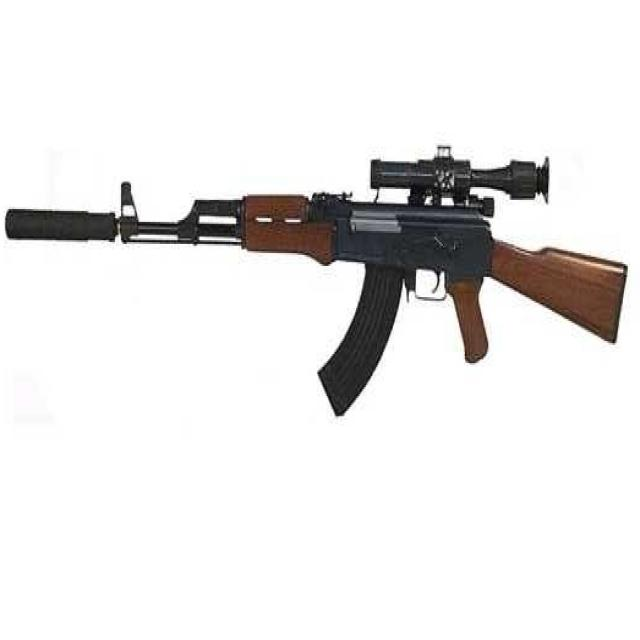heavyweapon: (7, 98, 629, 436)
